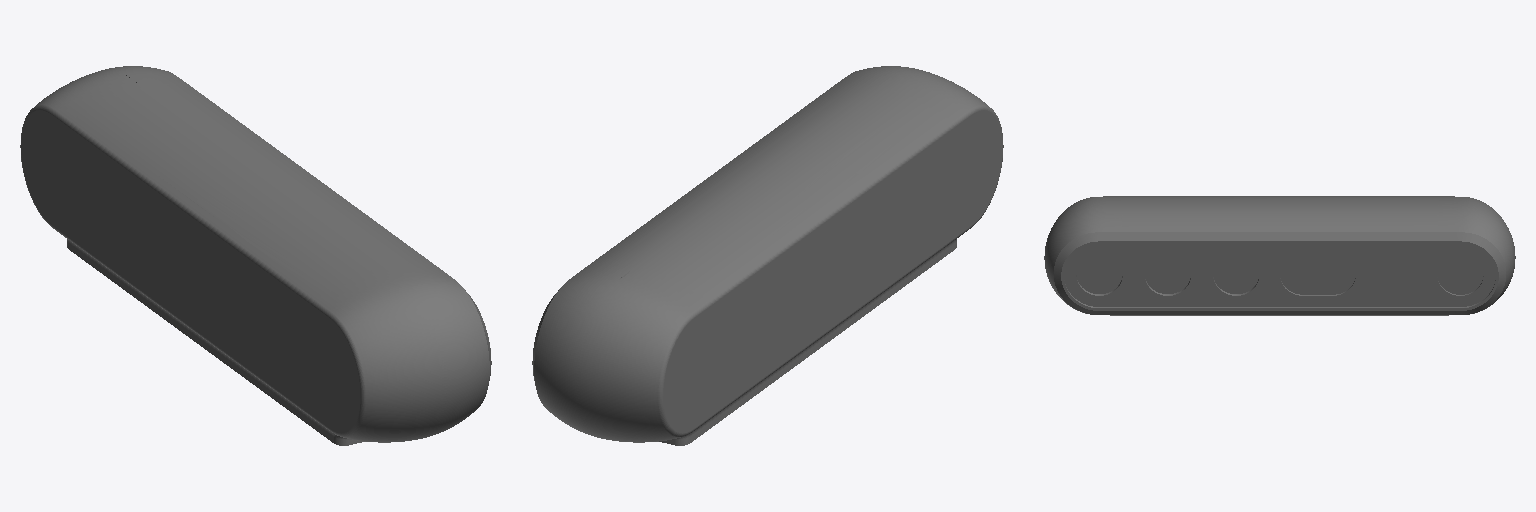
The robot description file, URDF, robot "realsense_d455_standalone":
<?xml version='1.0' encoding='utf-8'?>
<robot name="realsense_d455_standalone">
  <material name="aluminum">
    <color rgba="0.5 0.5 0.5 1" />
  </material>
  <material name="plastic">
    <color rgba="0.1 0.1 0.1 1" />
  </material>
  <link name="realsense_d455_mount" />
  
  <joint name="camera_joint" type="fixed">
    <origin rpy="0 0 0" xyz="0 0 0" />
    <parent link="realsense_d455_mount" />
    <child link="camera_bottom_screw_frame" />
  </joint>
  <link name="camera_bottom_screw_frame" />
  <joint name="camera_link_joint" type="fixed">
    <origin rpy="0 0 0" xyz="0.011150000000000002 0.0475 0.0145" />
    <parent link="camera_bottom_screw_frame" />
    <child link="camera_link" />
  </joint>
  <link name="camera_link">
    <visual>
      
      
      <origin rpy="1.5707963267948966 0 1.5707963267948966" xyz="0.0046500000000000005 -0.0475 0" />
      <geometry>
        
        <mesh filename="../meshes/raw/d455.stl" scale="0.001 0.001 0.001" />
      </geometry>
      <material name="aluminum" />
    </visual>
    <collision>
      <origin rpy="0 0 0" xyz="-0.00845 -0.0475 0" />
      <geometry>
        <box size="0.026 0.124 0.029" />
      </geometry>
    </collision>
    <inertial>
      
      <mass value="0.072" />
      <origin xyz="0 0 0" />
      <inertia ixx="0.003881243" ixy="0.0" ixz="0.0" iyy="0.000498940" iyz="0.0" izz="0.003879257" />
    </inertial>
  </link>
  
  <joint name="camera_depth_joint" type="fixed">
    <origin rpy="0 0 0" xyz="0 0 0" />
    <parent link="camera_link" />
    <child link="camera_depth_frame" />
  </joint>
  <link name="camera_depth_frame" />
  <joint name="camera_depth_optical_joint" type="fixed">
    <origin rpy="-1.5707963267948966 0 -1.5707963267948966" xyz="0 0 0" />
    <parent link="camera_depth_frame" />
    <child link="camera_depth_optical_frame" />
  </joint>
  <link name="camera_depth_optical_frame" />
  
  <joint name="camera_infra1_joint" type="fixed">
    <origin rpy="0 0 0" xyz="0 0.0 0" />
    <parent link="camera_link" />
    <child link="camera_infra1_frame" />
  </joint>
  <link name="camera_infra1_frame" />
  <joint name="camera_infra1_optical_joint" type="fixed">
    <origin rpy="-1.5707963267948966 0 -1.5707963267948966" xyz="0 0 0" />
    <parent link="camera_infra1_frame" />
    <child link="camera_infra1_optical_frame" />
  </joint>
  <link name="camera_infra1_optical_frame" />
  
  <joint name="camera_infra2_joint" type="fixed">
    <origin rpy="0 0 0" xyz="0 -0.095 0" />
    <parent link="camera_link" />
    <child link="camera_infra2_frame" />
  </joint>
  <link name="camera_infra2_frame" />
  <joint name="camera_infra2_optical_joint" type="fixed">
    <origin rpy="-1.5707963267948966 0 -1.5707963267948966" xyz="0 0 0" />
    <parent link="camera_infra2_frame" />
    <child link="camera_infra2_optical_frame" />
  </joint>
  <link name="camera_infra2_optical_frame" />
  
  <joint name="camera_color_joint" type="fixed">
    <origin rpy="0 0 0" xyz="0 -0.059 0" />
    <parent link="camera_link" />
    <child link="camera_color_frame" />
  </joint>
  <link name="camera_color_frame" />
  <joint name="camera_color_optical_joint" type="fixed">
    <origin rpy="-1.5707963267948966 0 -1.5707963267948966" xyz="0 0 0" />
    <parent link="camera_color_frame" />
    <child link="camera_color_optical_frame" />
  </joint>
  <link name="camera_color_optical_frame" />
  <link name="camera_accel_frame" />
  <link name="camera_accel_optical_frame" />
  <link name="camera_gyro_frame" />
  <link name="camera_gyro_optical_frame" />
  <link name="camera_imu_optical_frame" />
  <joint name="camera_accel_joint" type="fixed">
    <origin rpy="0 0 0" xyz="-0.01602 -0.03022 0.0074" />
    <parent link="camera_link" />
    <child link="camera_accel_frame" />
  </joint>
  <joint name="camera_accel_optical_joint" type="fixed">
    <origin rpy="-1.5707963267948966 0 -1.5707963267948966" xyz="0 0 0" />
    <parent link="camera_accel_frame" />
    <child link="camera_accel_optical_frame" />
  </joint>
  <joint name="camera_gyro_joint" type="fixed">
    <origin rpy="0 0 0" xyz="-0.01602 -0.03022 0.0074" />
    <parent link="camera_link" />
    <child link="camera_gyro_frame" />
  </joint>
  <joint name="camera_gyro_optical_joint" type="fixed">
    <origin rpy="-1.5707963267948966 0 -1.5707963267948966" xyz="0 0 0" />
    <parent link="camera_gyro_frame" />
    <child link="camera_gyro_optical_frame" />
  </joint>
  <joint name="camera_imu_optical_joint" type="fixed">
    <origin rpy="0 0 0" xyz="0 0 0" />
    <parent link="camera_gyro_optical_frame" />
    <child link="camera_imu_optical_frame" />
  </joint>
</robot>

--- What the picture shows (computed from the rendered views, not written in the file) ---
3 views of the same robot in one strip: view 1: azimuth 30°, elevation 25°; view 2: azimuth 150°, elevation 25°; view 3: azimuth 270°, elevation 25° (orthographic).
Model realsense_d455_standalone with 16 links and 15 joints (15 fixed), rooted at realsense_d455_mount, posed every joint at zero.
Links seen in each view (by area): view 1: camera_link; view 2: camera_link; view 3: camera_link.
Link boxes in pixels (x1=…): camera_link: x1=20, y1=66, x2=491, y2=445; camera_link: x1=532, y1=66, x2=1003, y2=445; camera_link: x1=1044, y1=196, x2=1515, y2=315.
Size in the robot's own frame: 0.026 by 0.124 by 0.029 metres.
1 mesh visuals loaded from 1 distinct referenced files (1 binary STL).
